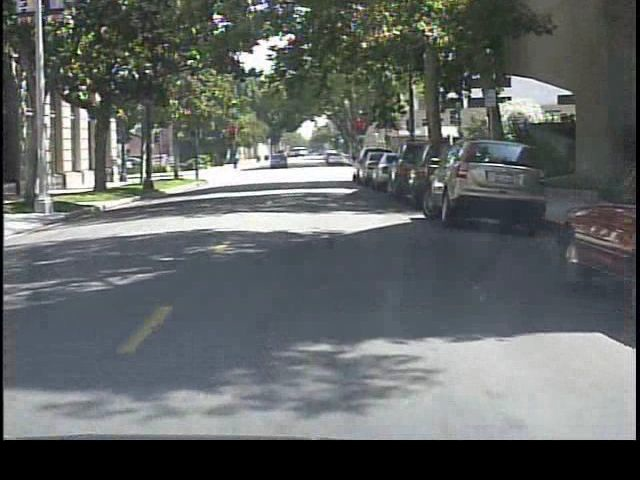person: (230, 144, 242, 169)
